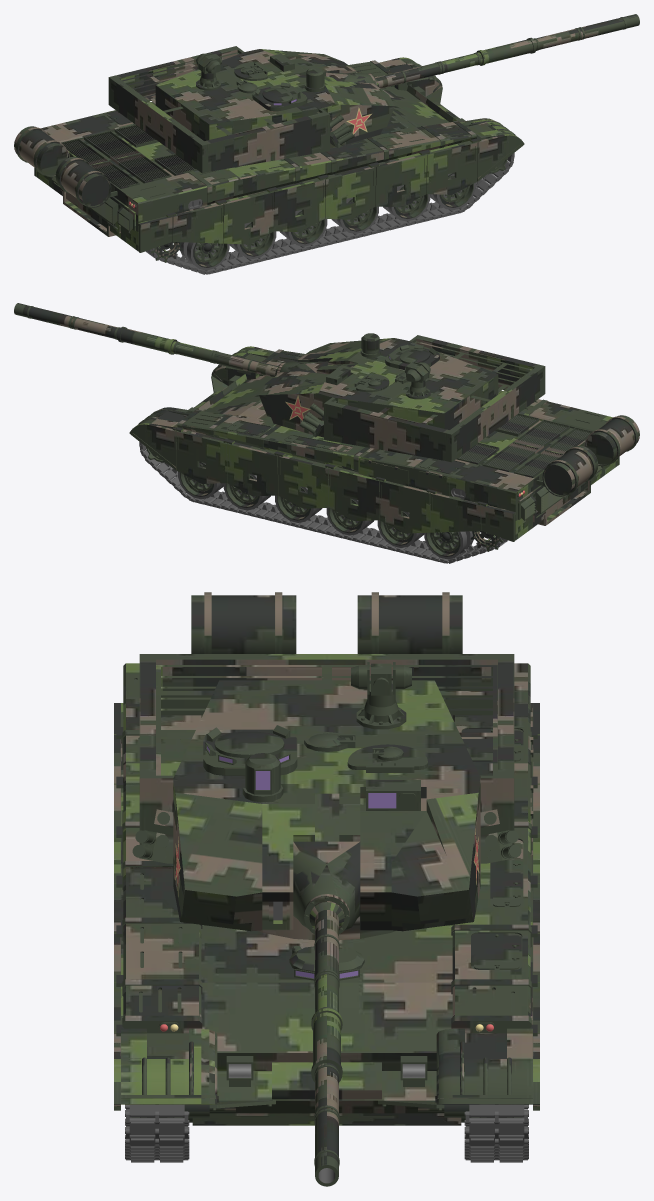
The model's file is ztz99a.glb.
The picture shows the model from 3 angles, top to bottom: view 1: azimuth 30°, elevation 25°; view 2: azimuth 150°, elevation 25°; view 3: azimuth 270°, elevation 25°; orthographic projection. The views are drawn at different scales.
Visible parts, largest first — view 1: Material2 (×5), Material3; view 2: Material2 (×6), Material3; view 3: Material2 (×6), Material3 (×2).
Part boxes in pixels (x1,y1,x2,y2): Material2 (×5): (16,14,639,274); Material3: (14,58,459,258); Material2 (×6): (14,303,637,563); Material3: (138,348,639,547); Material2 (×6): (114,592,539,1186); Material3 (×2): (191,595,532,1104).
Bounding box in the file's own units: 448 × 113 × 140.
10 materials, 5 textured.
